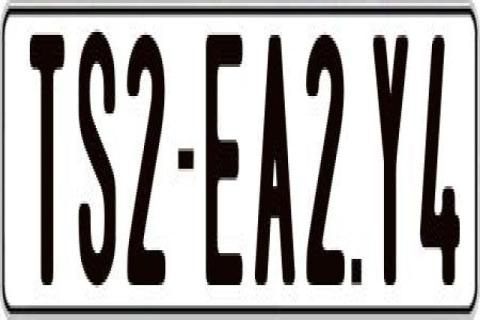0: (125, 32, 168, 294), (305, 35, 346, 303), (420, 35, 460, 299)
A: (255, 29, 298, 297)
E: (206, 29, 249, 291)
S: (78, 29, 117, 291)
T: (27, 32, 65, 296)
Y: (374, 35, 414, 303)
